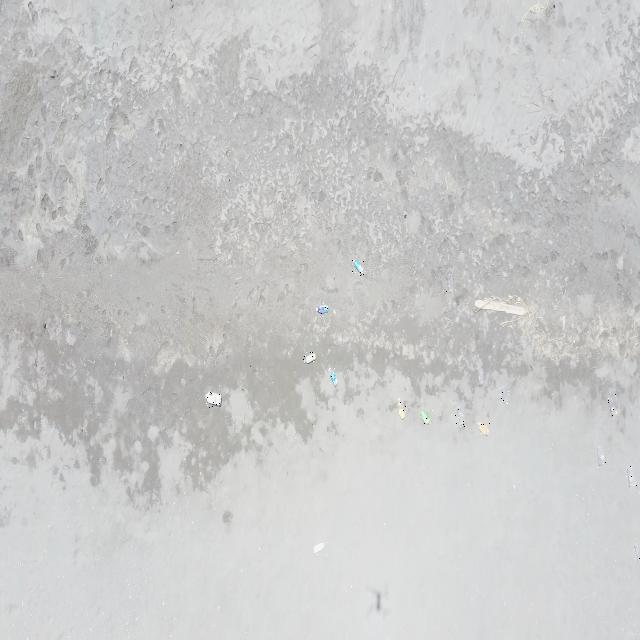plastic-bottle: (205, 391, 222, 408), (396, 397, 406, 421), (419, 410, 433, 427), (313, 540, 327, 556), (477, 421, 490, 437), (329, 367, 339, 387), (302, 352, 316, 366), (352, 260, 364, 276), (316, 302, 328, 314)
takeaway-cup: (596, 444, 607, 468), (626, 465, 637, 488), (608, 394, 618, 419), (455, 407, 465, 427), (500, 385, 510, 404), (444, 273, 452, 293), (476, 367, 484, 386), (634, 542, 640, 565)
